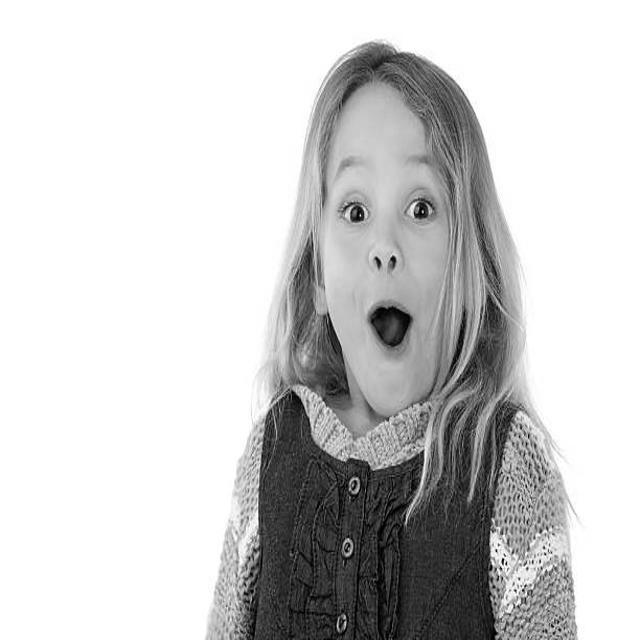Surprised: (321, 78, 467, 420)
